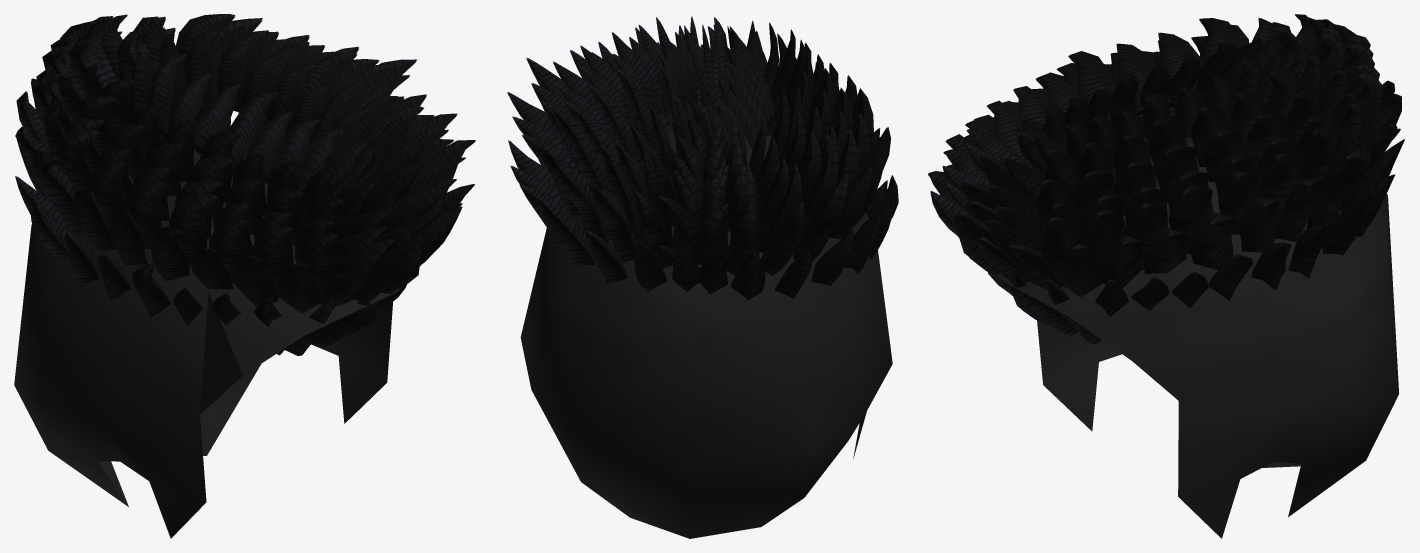
Rendered from Crespo_0.glb.
3 renders of one model, left to right at view 1: azimuth 30°, elevation 25°; view 2: azimuth 150°, elevation 25°; view 3: azimuth 270°, elevation 25°, orthographic. The views are drawn at different scales.
Parts seen in each view (by area): view 1: HEAD-REST; view 2: HEAD-REST; view 3: HEAD-REST.
Boxes of the visible parts, bbox=[...] form: HEAD-REST: bbox=[14, 14, 475, 538]; HEAD-REST: bbox=[507, 16, 898, 538]; HEAD-REST: bbox=[928, 14, 1404, 538].
Size of the model in its own units: 0.0296 by 0.0343 by 0.0326.
Materials: 1 (1 with a texture image).
